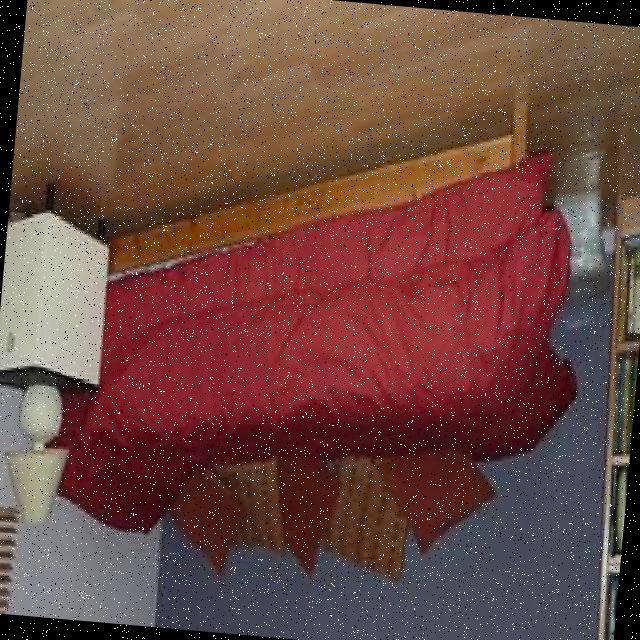Bed: (18, 33, 606, 621)
